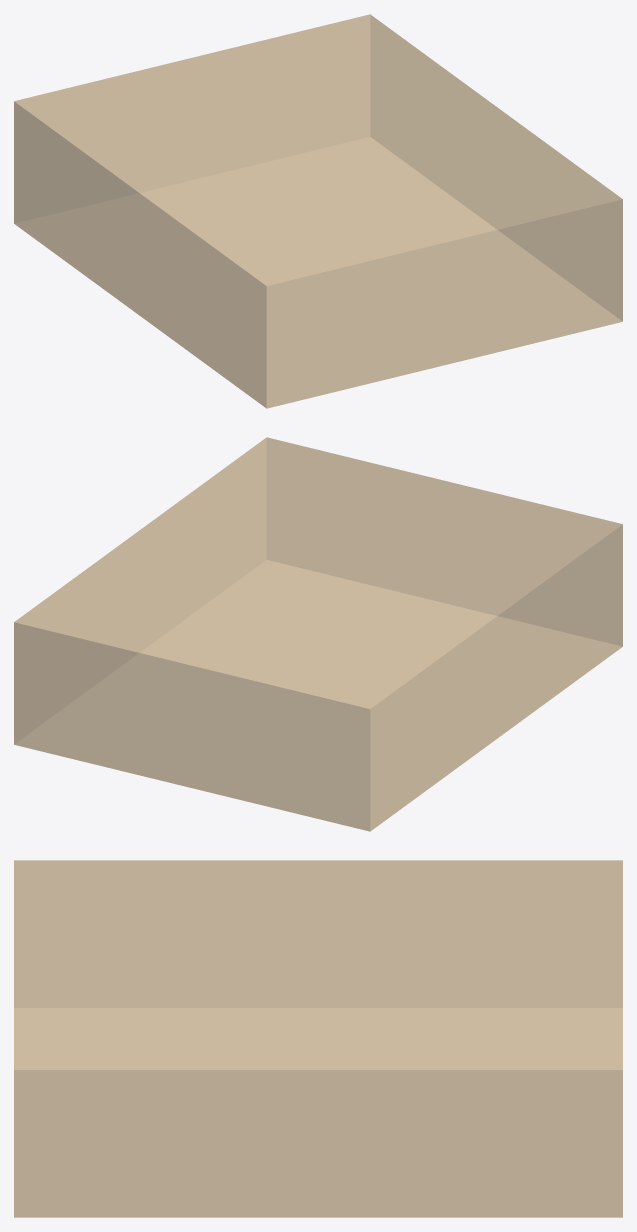
The model's file is blockout.glb.
The picture shows the model from 3 angles, top to bottom: view 1: azimuth 30°, elevation 25°; view 2: azimuth 150°, elevation 25°; view 3: azimuth 270°, elevation 25°; orthographic projection. The views are drawn at different scales.
Parts seen in each view (by area): view 1: C06_ENVELOPE_NOT_FINAL_MESH; view 2: C06_ENVELOPE_NOT_FINAL_MESH; view 3: C06_ENVELOPE_NOT_FINAL_MESH.
Part boxes in pixels (x1,y1,x2,y2): C06_ENVELOPE_NOT_FINAL_MESH: [14, 14, 622, 408]; C06_ENVELOPE_NOT_FINAL_MESH: [14, 437, 622, 831]; C06_ENVELOPE_NOT_FINAL_MESH: [14, 860, 622, 1217].
Bounding box in the file's own units: 7 × 2.3 × 8.6.
